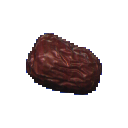gd: (13, 25, 107, 107)
